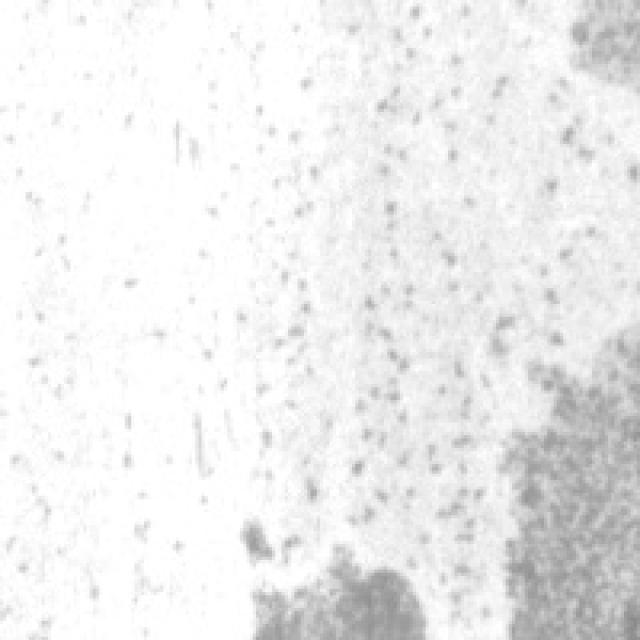pitted_surface: (239, 0, 486, 550), (493, 330, 637, 630), (244, 560, 438, 637), (534, 0, 637, 93)
